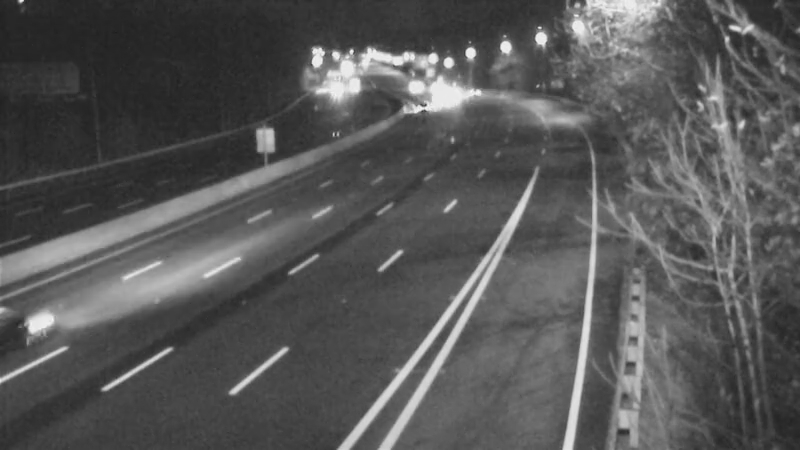vehicle: (386, 61, 436, 111), (448, 70, 498, 120), (415, 73, 465, 123), (397, 85, 447, 135), (310, 62, 360, 112)
